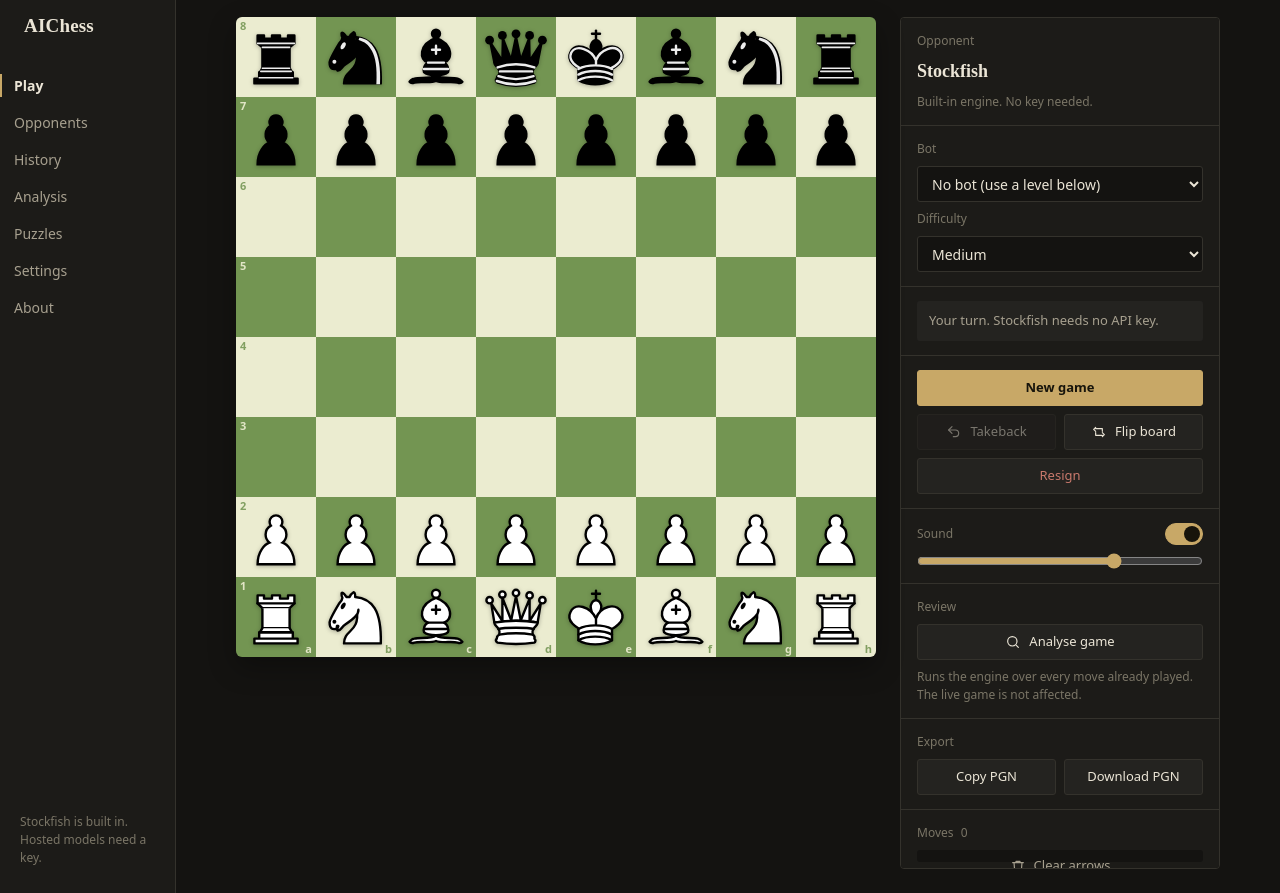
Test: analysis › analyses the played game and lists the graded moves
The image size is (1280, 893).
Press the mouse on the element with class "chessboard-wrap" at point(556, 337), box [236,17,876,657]
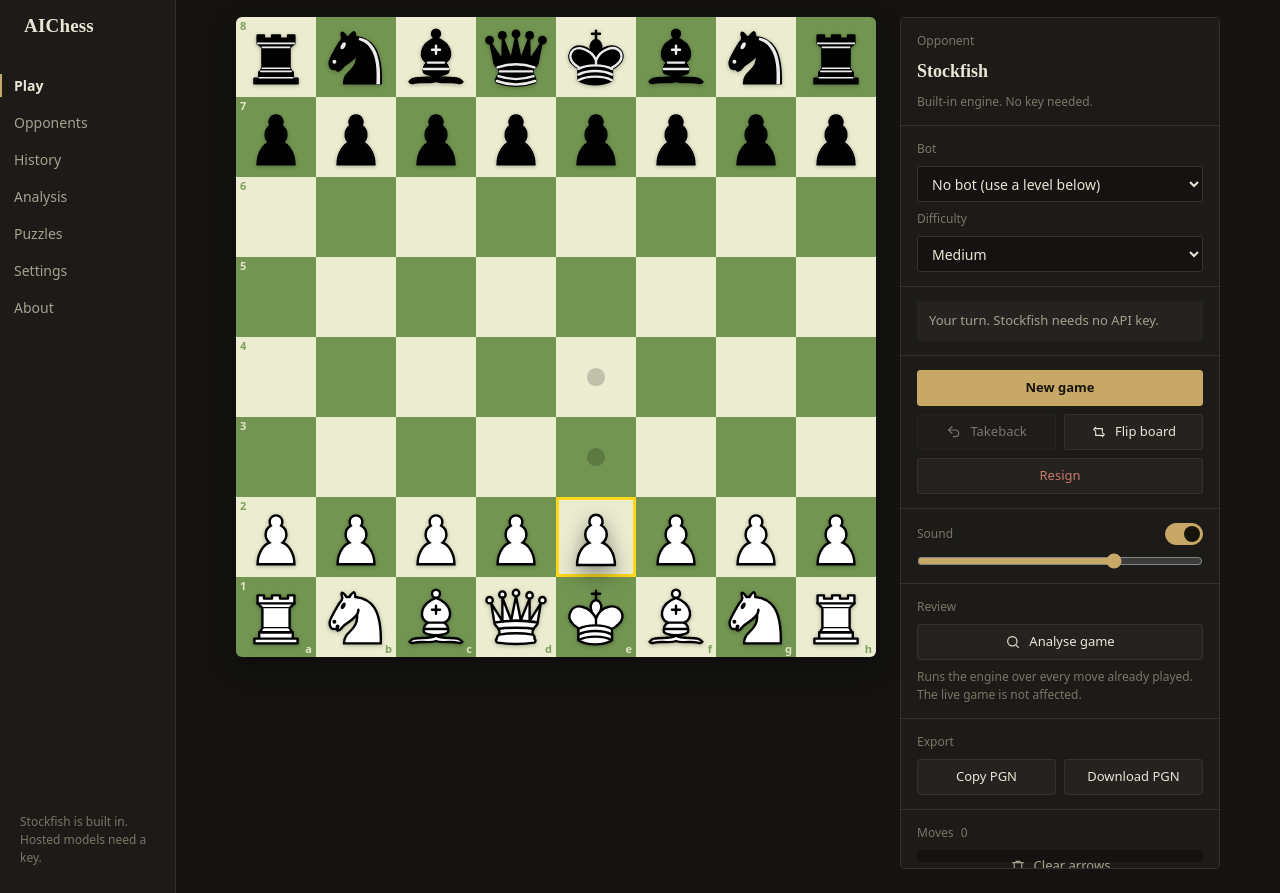
Press the mouse on the element with class "chessboard-wrap" at point(556, 337), box [236,17,876,657]
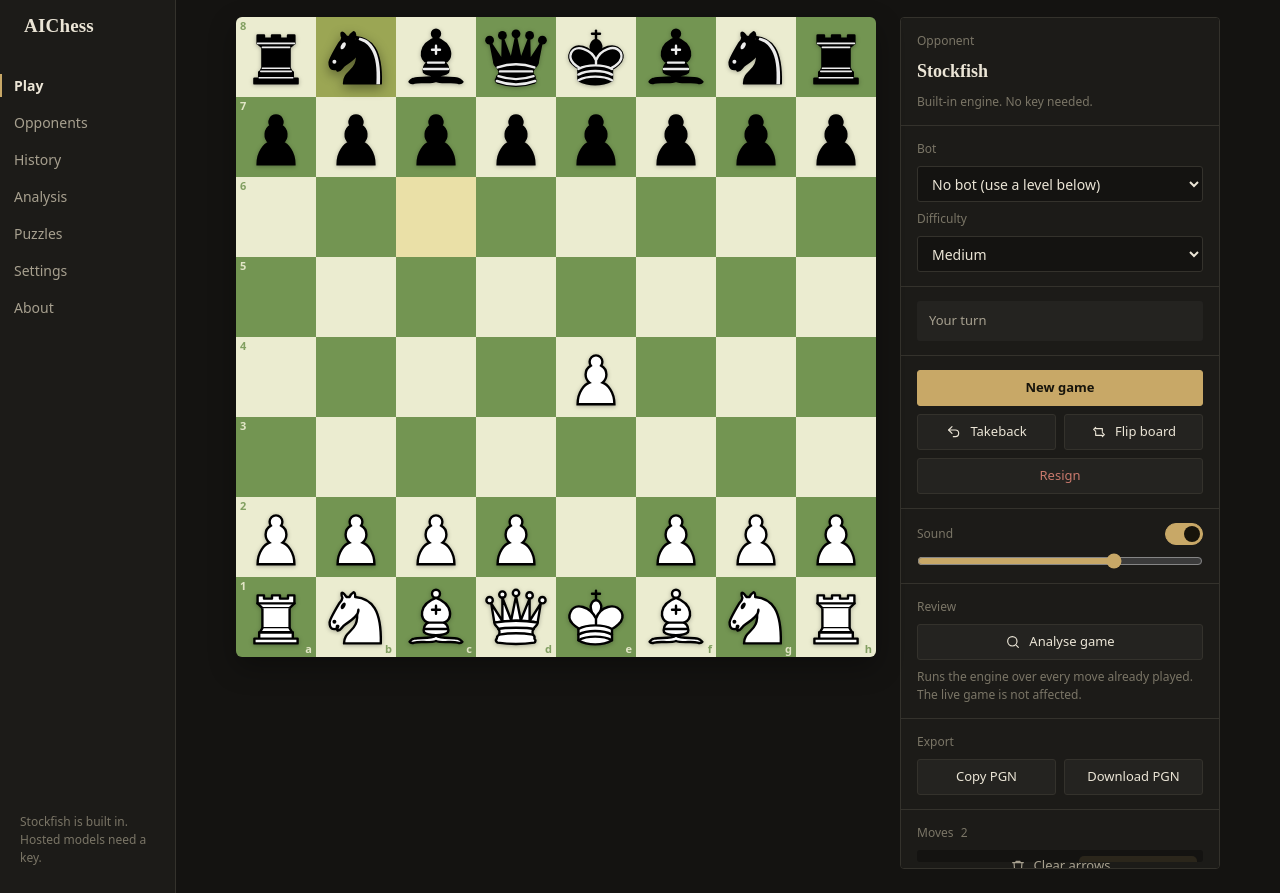
Click the button "Analyse game" at point(1060, 642), box [917,624,1203,660]
(page scrolled)
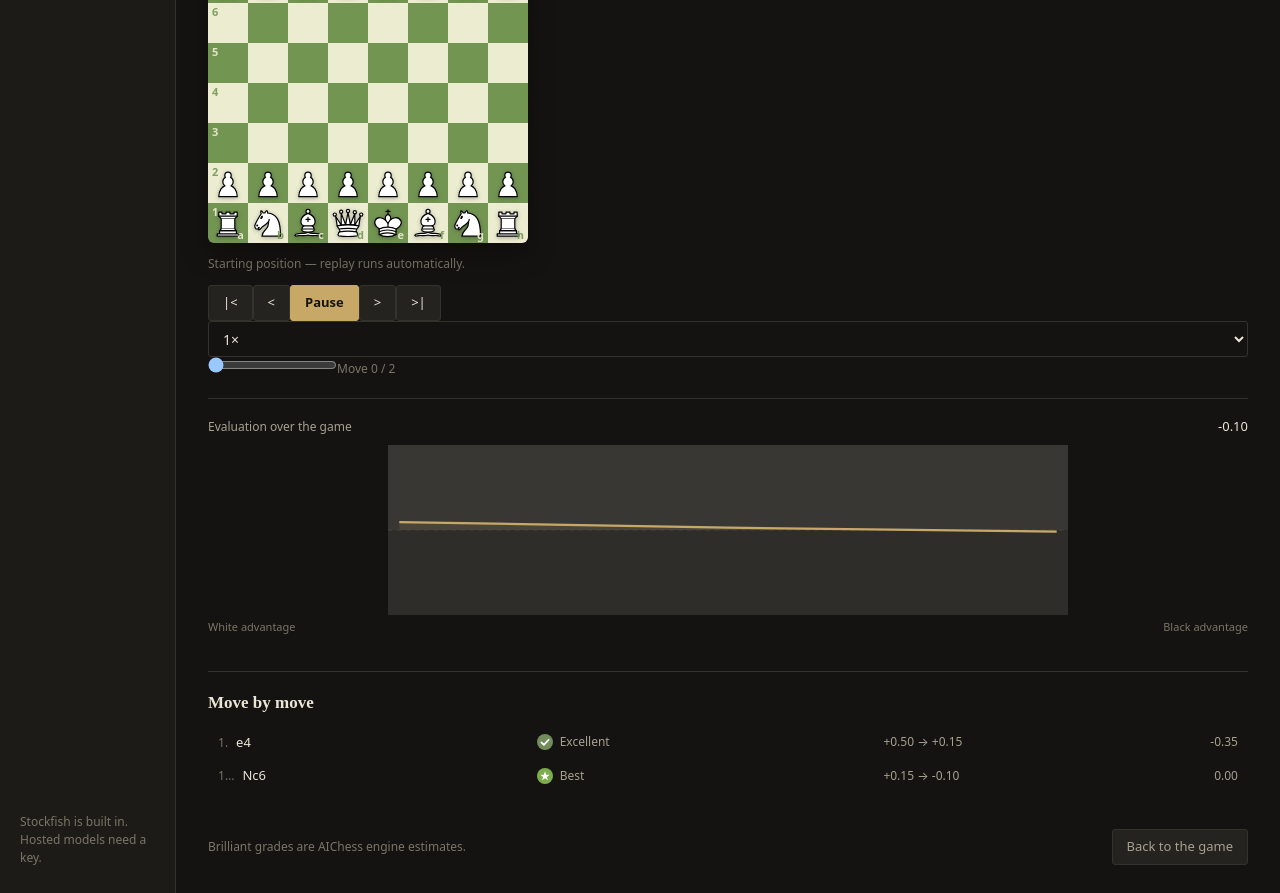
Check: the number of buttons with class "analysis-move-row" is 2
Check: the button with class "analysis-move-row" shows "e4"
Check: the picture named "Excellent" is shown, box [537,734,553,750]
Click the button with class "analysis-move-row" that starts with "Excellent" at point(585, 742), box [208,726,1248,759]
(page scrolled)
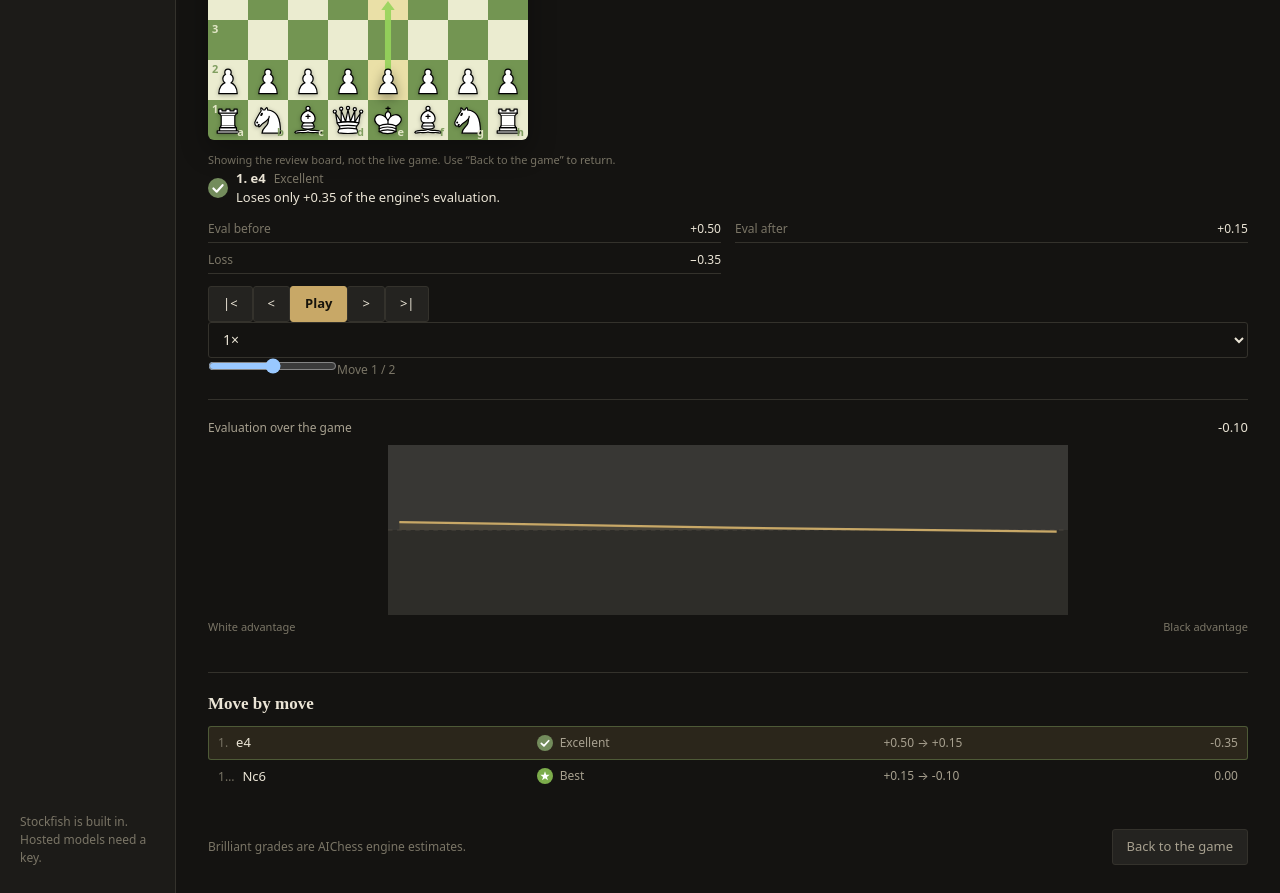
Check: the message with class "analysis-board-note" shows "review board", box [208,152,616,167]
